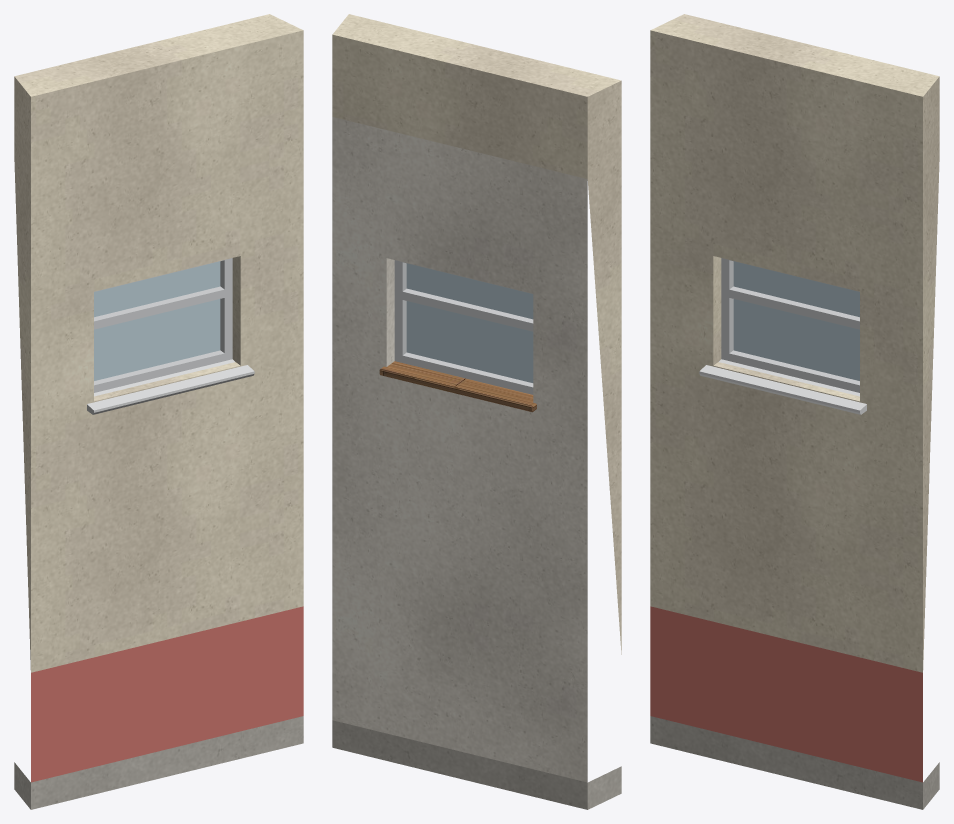
The picture shows the model from 3 angles, left to right: view 1: azimuth 30°, elevation 25°; view 2: azimuth 150°, elevation 25°; view 3: azimuth 330°, elevation 25°; orthographic projection.
Parts seen in each view (by area): view 1: f_high_render, f_high_tile_r, f_high_glass, f_high_concrete, f_high_frame, f_high_coping; view 2: f_high_plaster, f_high_render, f_high_glass, f_high_concrete, f_high_frame, f_high_wood; view 3: f_high_render, f_high_tile_r, f_high_glass, f_high_concrete, f_high_frame, f_high_coping.
Boxes of the visible parts, x1,y1,x2,y2 form: f_high_render: [14, 14, 303, 672]; f_high_tile_r: [31, 606, 303, 782]; f_high_glass: [94, 261, 220, 380]; f_high_concrete: [14, 716, 303, 809]; f_high_frame: [94, 258, 232, 392]; f_high_coping: [87, 359, 254, 414]; f_high_plaster: [332, 117, 587, 782]; f_high_render: [332, 14, 621, 654]; f_high_glass: [406, 263, 533, 382]; f_high_concrete: [332, 720, 621, 809]; f_high_frame: [394, 260, 533, 394]; f_high_wood: [379, 361, 536, 412]; f_high_render: [650, 14, 939, 672]; f_high_tile_r: [650, 606, 922, 782]; f_high_glass: [733, 261, 859, 380]; f_high_concrete: [650, 716, 939, 809]; f_high_frame: [721, 258, 859, 392]; f_high_coping: [699, 359, 866, 414].
Size of the model in its own units: 1.56 by 3.9 by 0.36.
8 materials, 4 textured.
